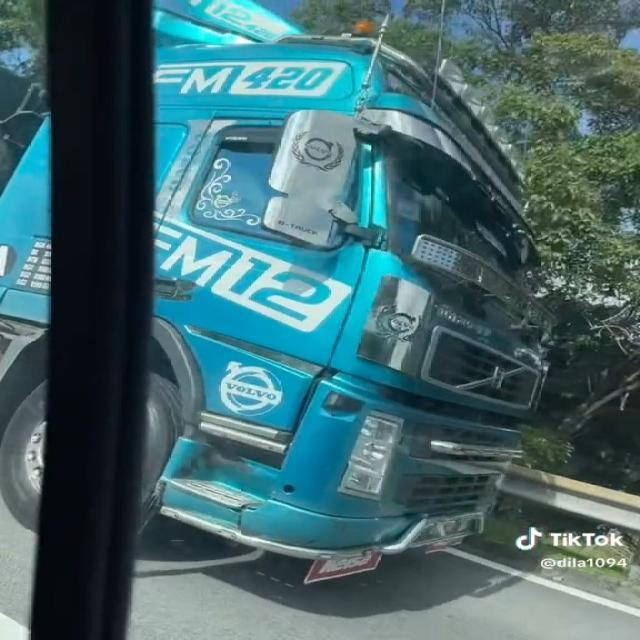truck: (165, 15, 545, 562)
